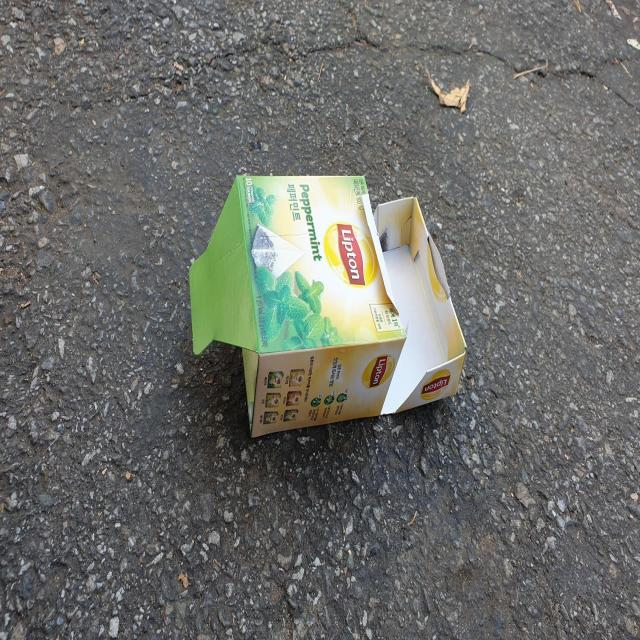paperpack: (189, 175, 466, 437)
